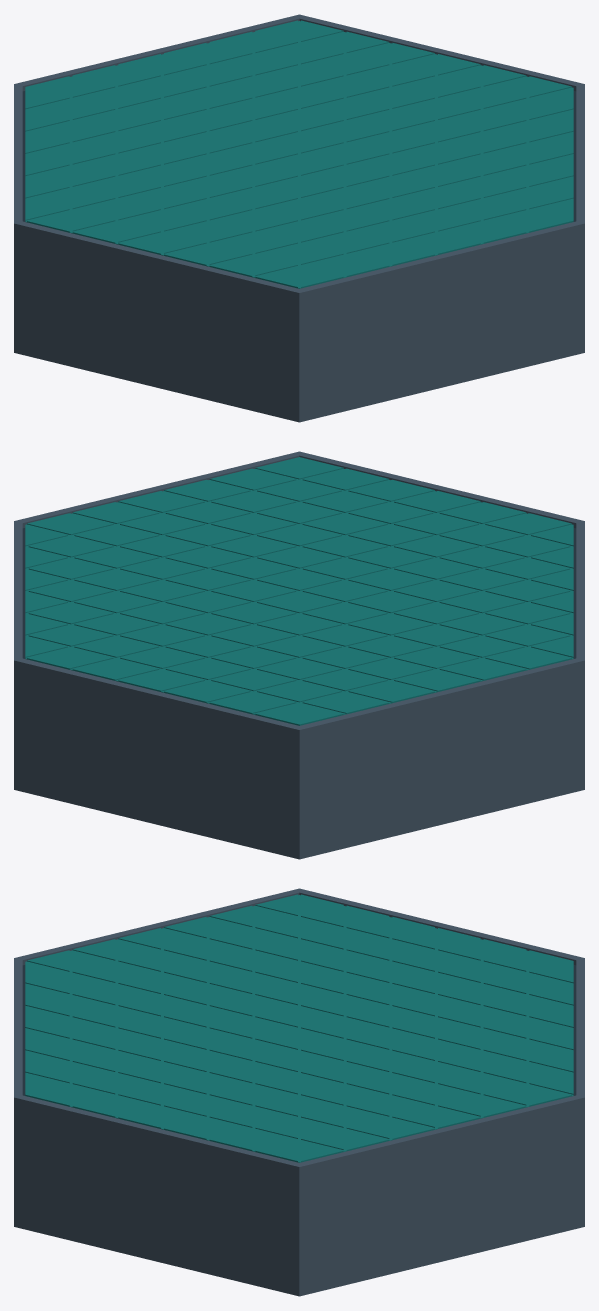
The model's file is HEX_200_Assembly.glb.
The picture shows the model from 3 angles, top to bottom: view 1: azimuth 30°, elevation 25°; view 2: azimuth 150°, elevation 25°; view 3: azimuth 270°, elevation 25°; orthographic projection.
Visible parts, largest first — view 1: A11_Replaceable_textured_tread, A01_Housing_and_six_structural_stops, A02_Perimeter_sliding_wiper; view 2: A11_Replaceable_textured_tread, A01_Housing_and_six_structural_stops, A02_Perimeter_sliding_wiper; view 3: A11_Replaceable_textured_tread, A01_Housing_and_six_structural_stops, A02_Perimeter_sliding_wiper.
Boxes of the visible parts, left/top/right/bottom form: A11_Replaceable_textured_tread: left=25, top=20, right=573, bottom=288; A01_Housing_and_six_structural_stops: left=14, top=14, right=584, bottom=422; A02_Perimeter_sliding_wiper: left=22, top=91, right=576, bottom=221; A11_Replaceable_textured_tread: left=25, top=457, right=573, bottom=725; A01_Housing_and_six_structural_stops: left=14, top=451, right=584, bottom=859; A02_Perimeter_sliding_wiper: left=22, top=528, right=576, bottom=658; A11_Replaceable_textured_tread: left=25, top=894, right=573, bottom=1162; A01_Housing_and_six_structural_stops: left=14, top=888, right=584, bottom=1296; A02_Perimeter_sliding_wiper: left=22, top=965, right=576, bottom=1095.
Size of the model in its own units: 0.2309 by 0.05 by 0.2.
